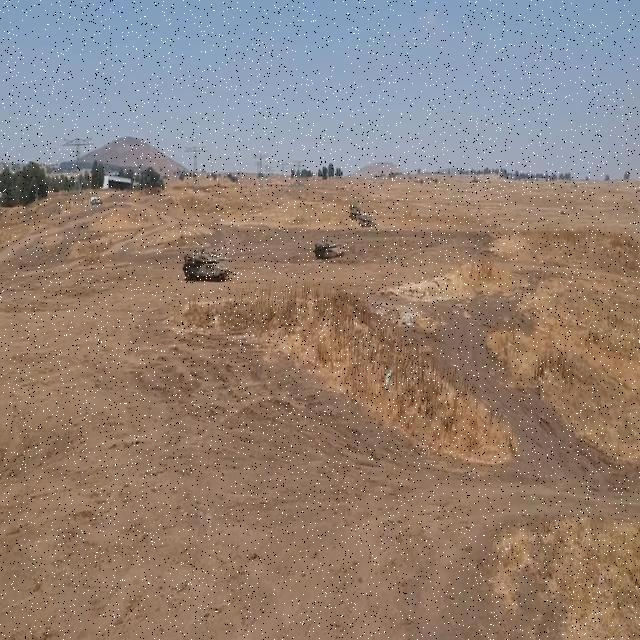MIL_MBT: (184, 248, 238, 282), (346, 193, 362, 221), (314, 244, 341, 257), (359, 212, 374, 226)
